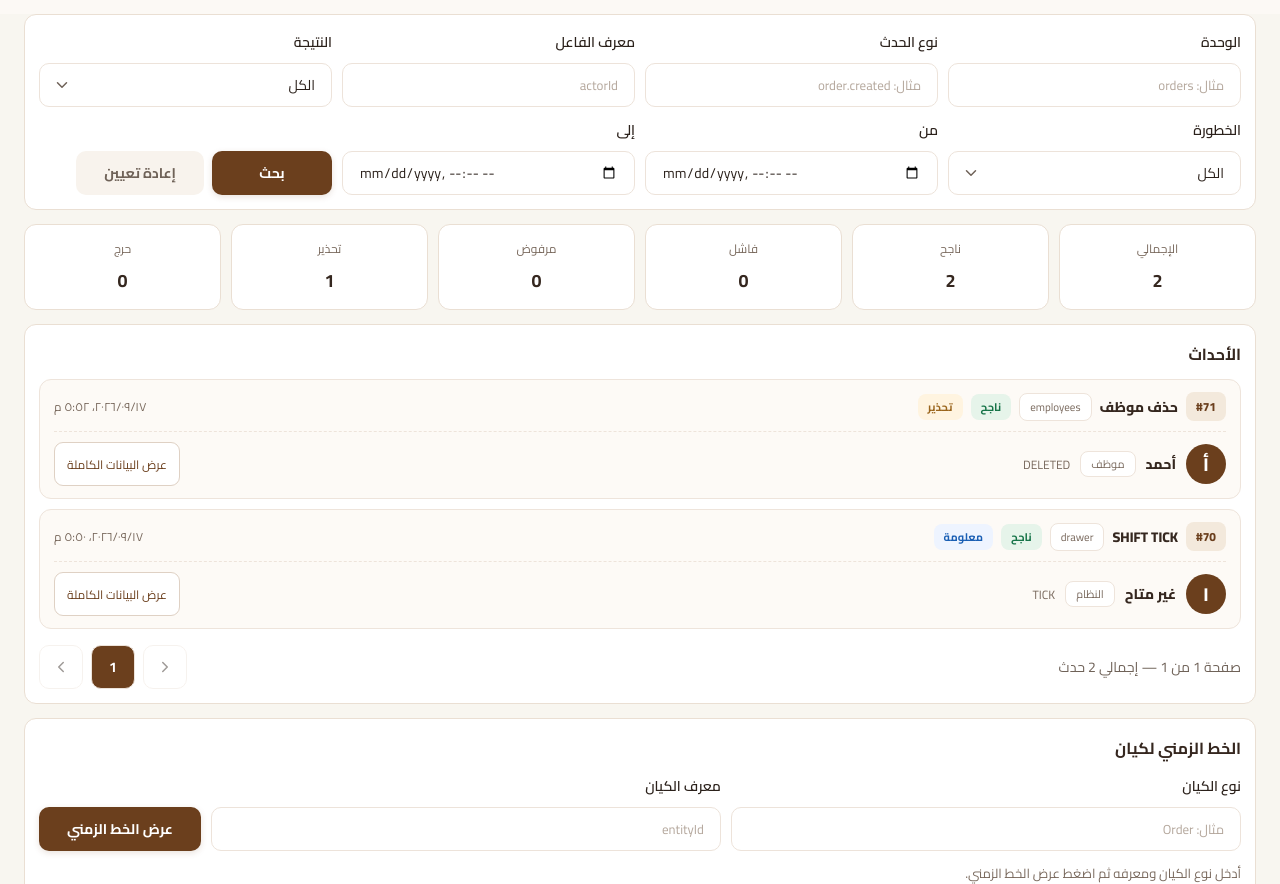
audit page event cards › shows every event with its employee and expands the full-data card
expect the text "أحمد" is shown: met, box [1146,451,1176,477]
expect the text "#71" is shown: met, box [1186,392,1226,421]
Step 1. Click the button "عرض البيانات الكاملة" in the row of "DELETED" → click(117, 464), box [54,442,180,486]
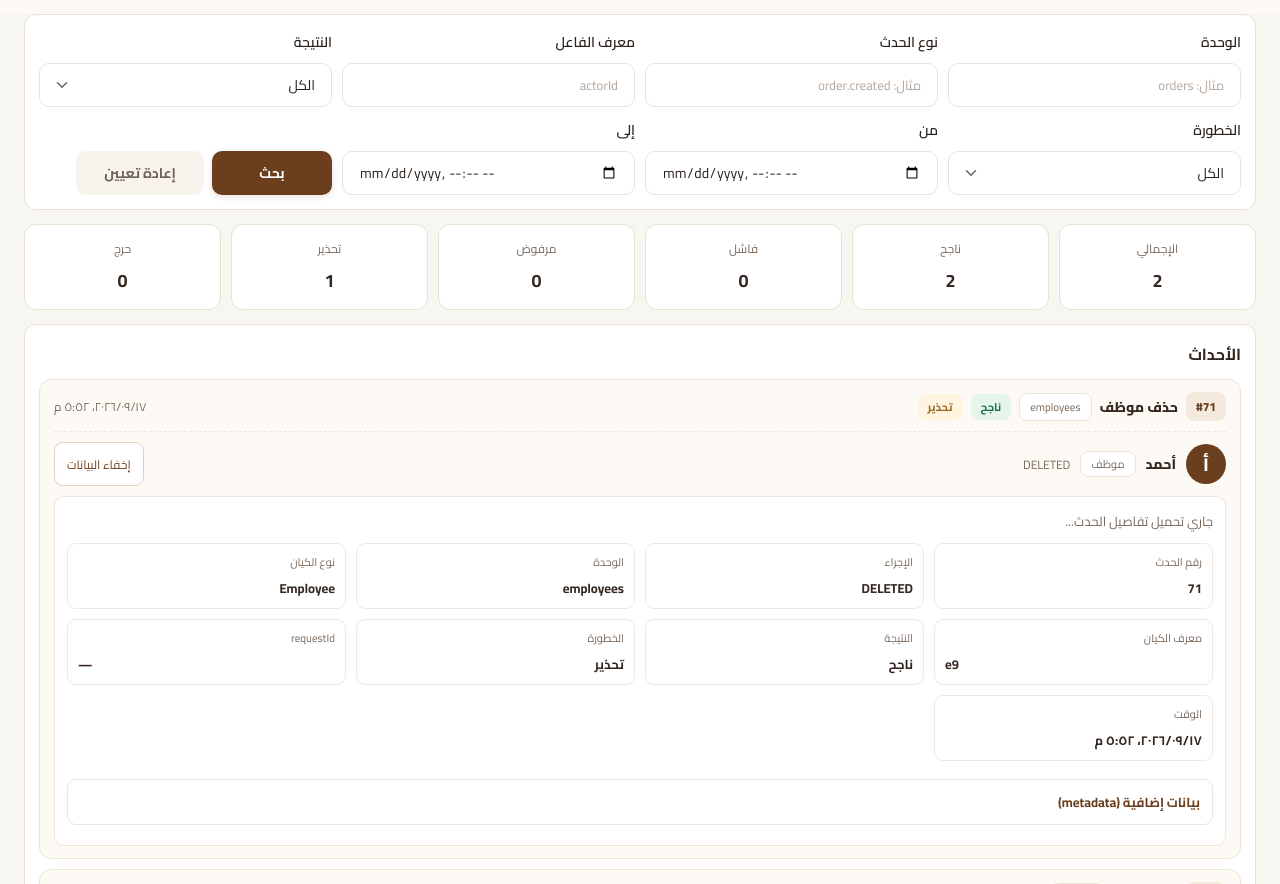
expect the text "رقم الحدث" is shown: met, box [1156,552,1202,572]
expect the heading "بيانات إضافية (metadata)" is shown: met, box [1058,790,1200,814]
